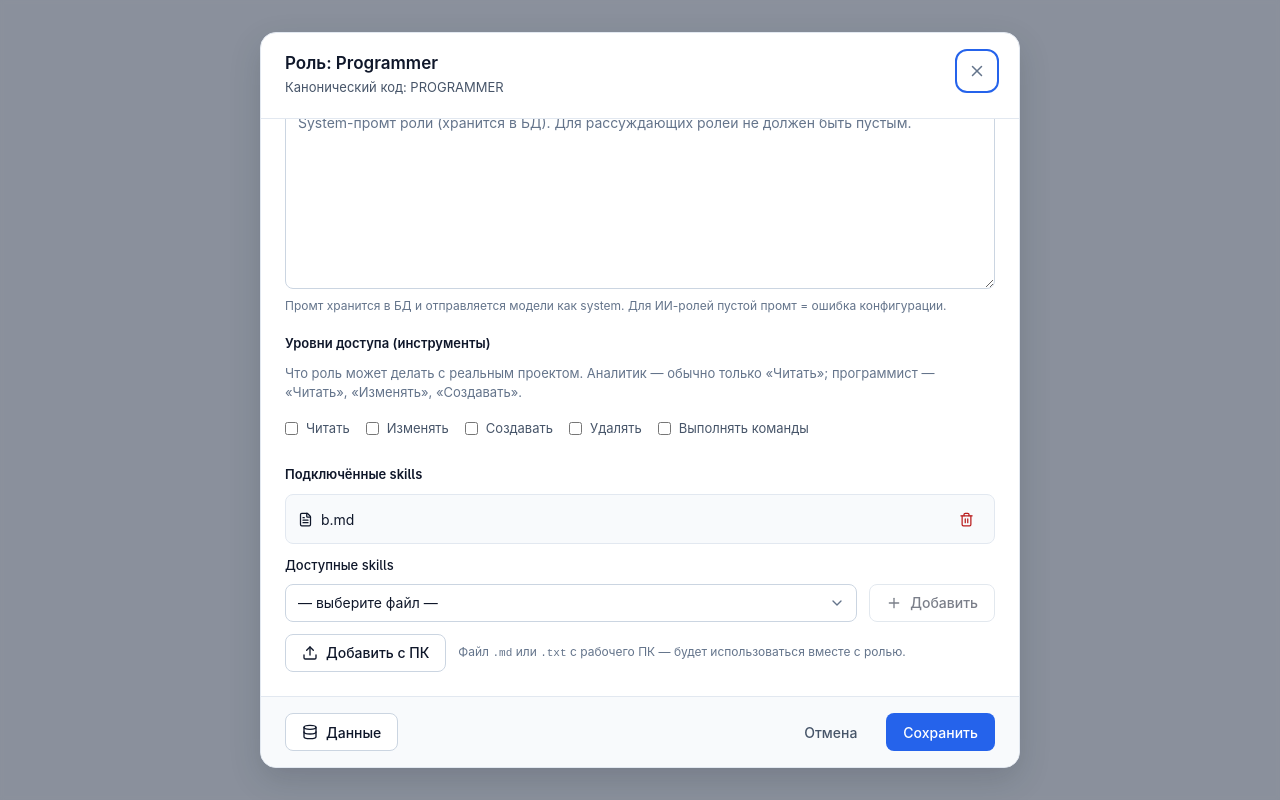
Test case: RoleCardModal — карточка роли › добавляет skill из серверного списка и не допускает дубли в выборе
(page scrolled)
Select "a.md (a.md)" in the dropdown labelled "Доступные skills" at x=571, y=603, box [285,584,857,622]
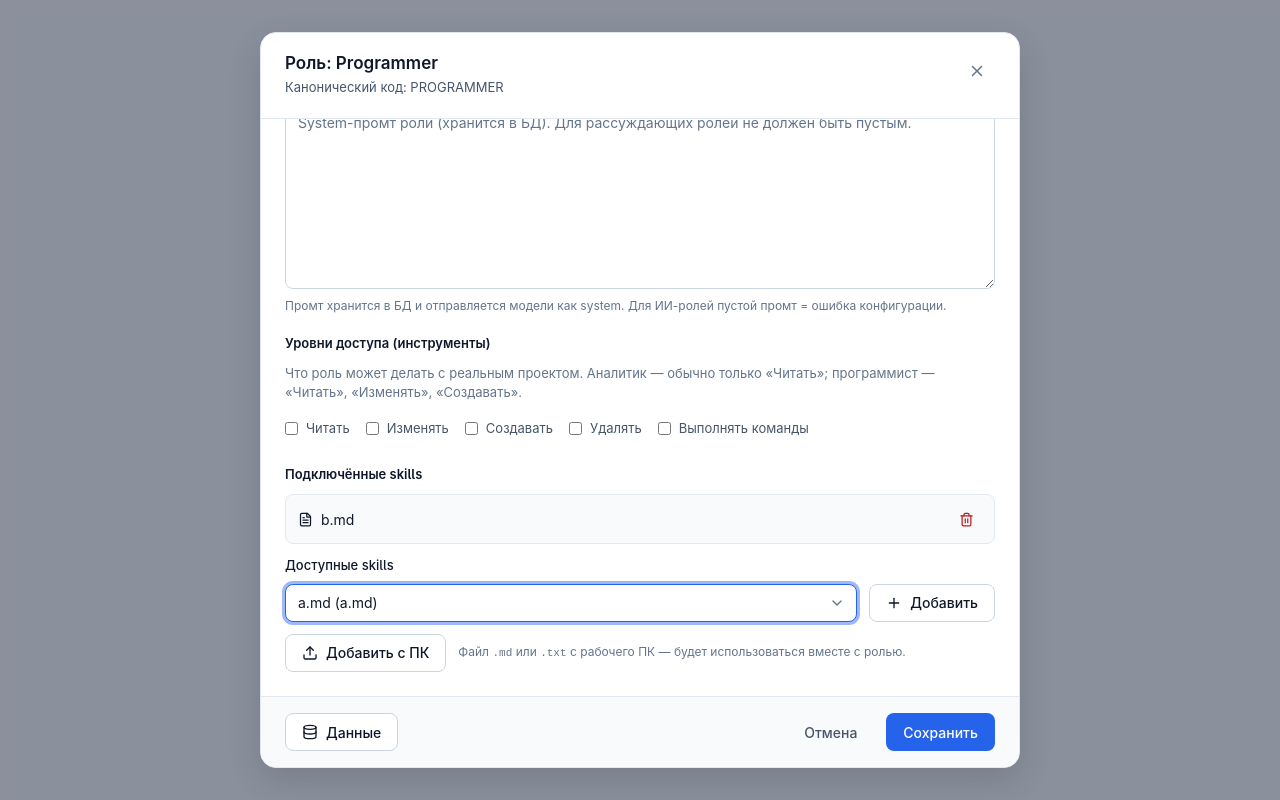
Click the button "Добавить" at x=932, y=603, box [869,584,995,622]
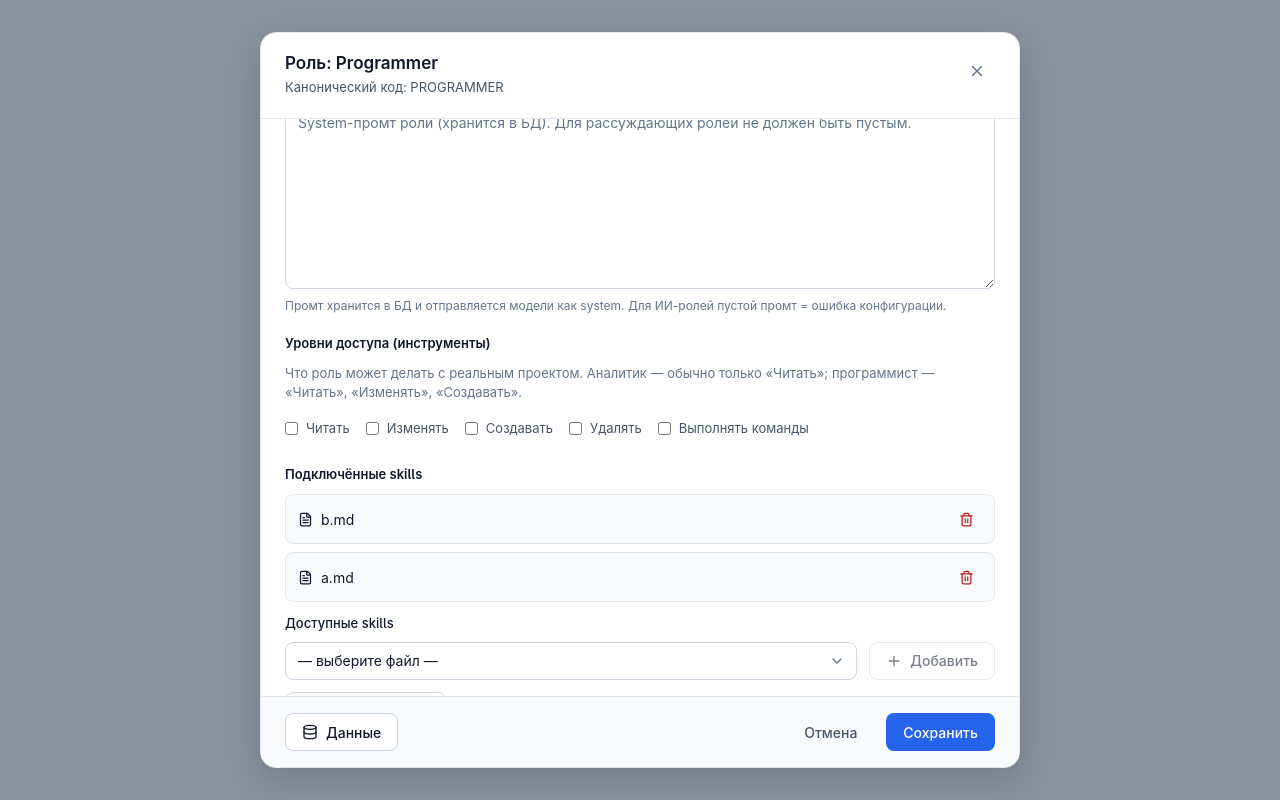
Expected: the button named "Отключить skill «a.md»" is shown, [950,561,982,593]
